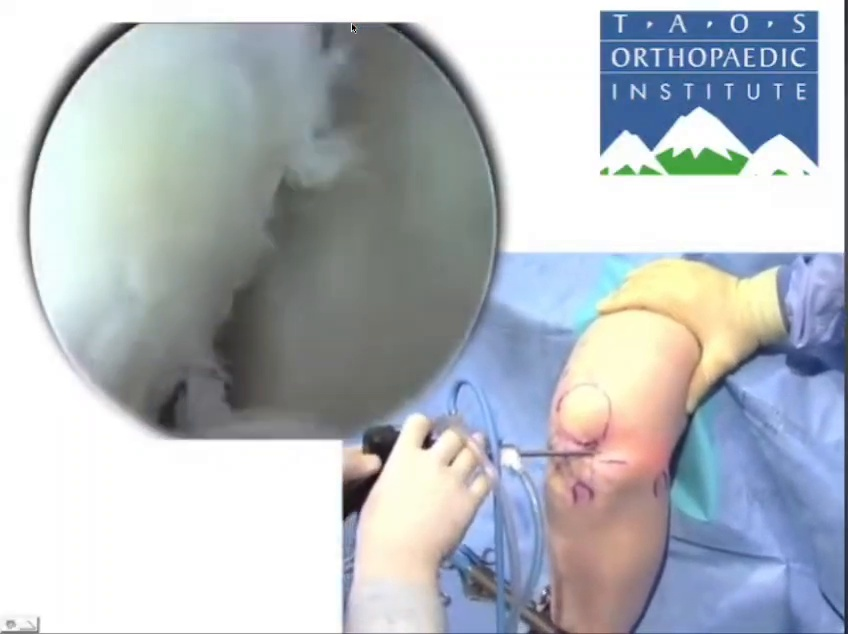arthroscope: (33, 0, 380, 405), (774, 356, 848, 634)
probe: (189, 429, 348, 461)
